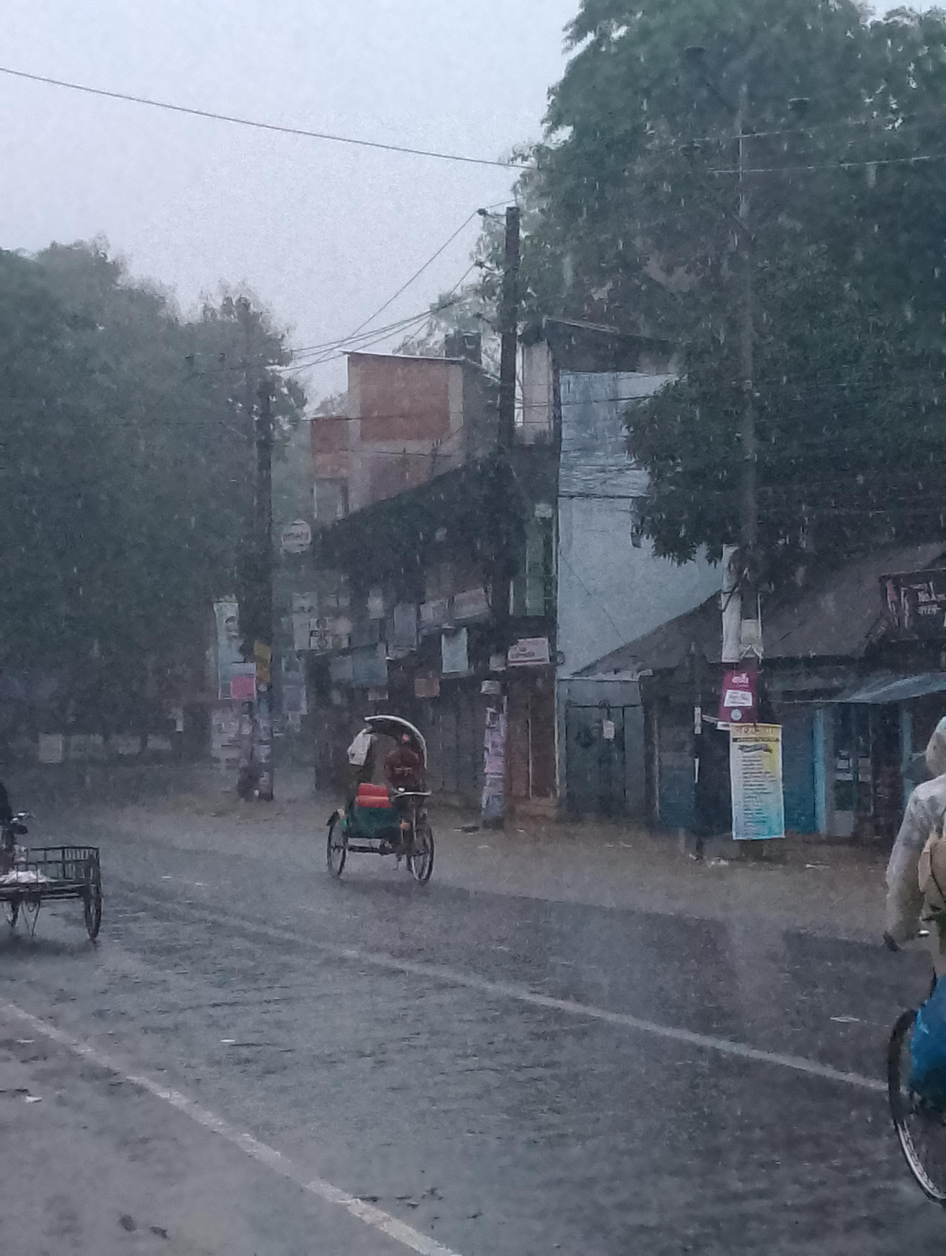Car: (288, 680, 459, 901)
